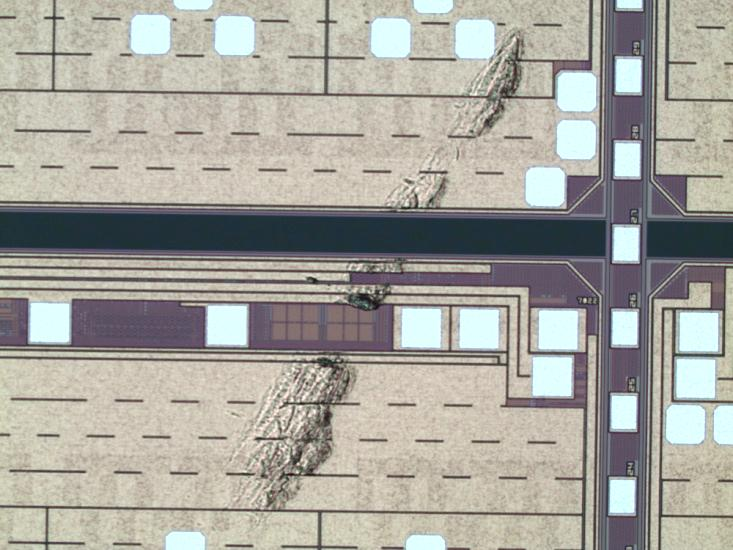SCRATCH: (213, 27, 529, 535)
